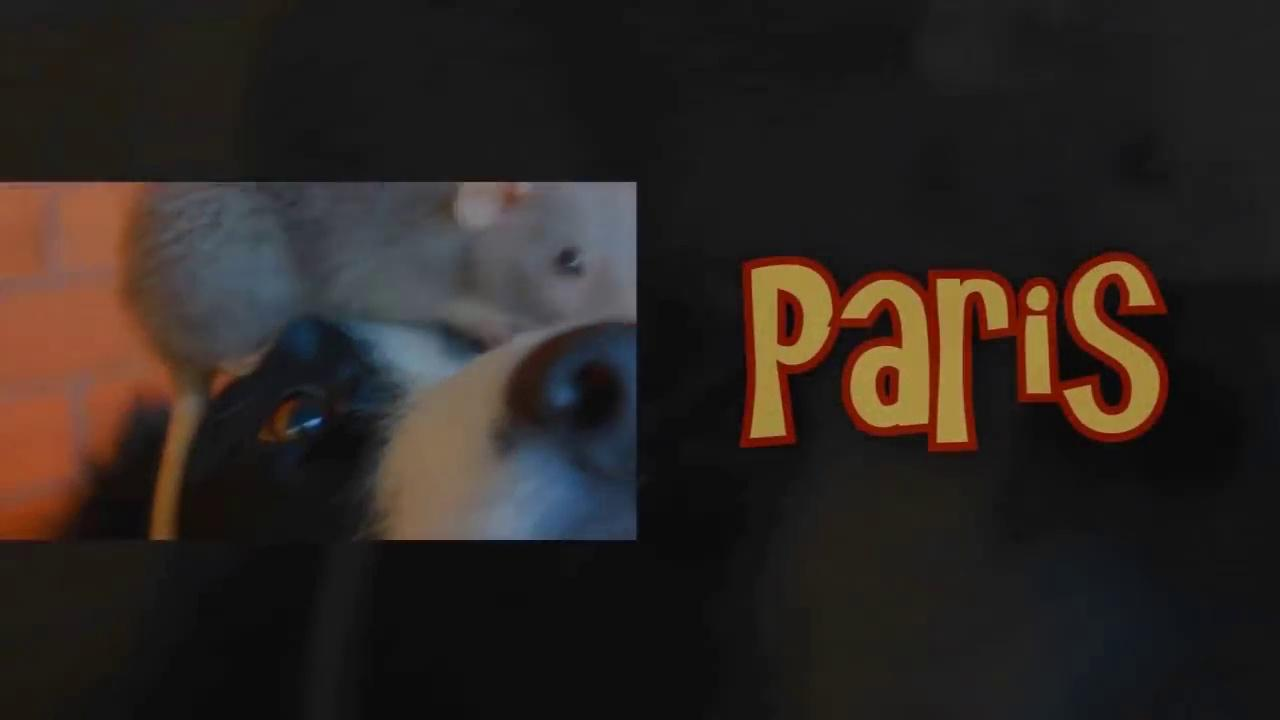rat: (117, 180, 639, 542)
